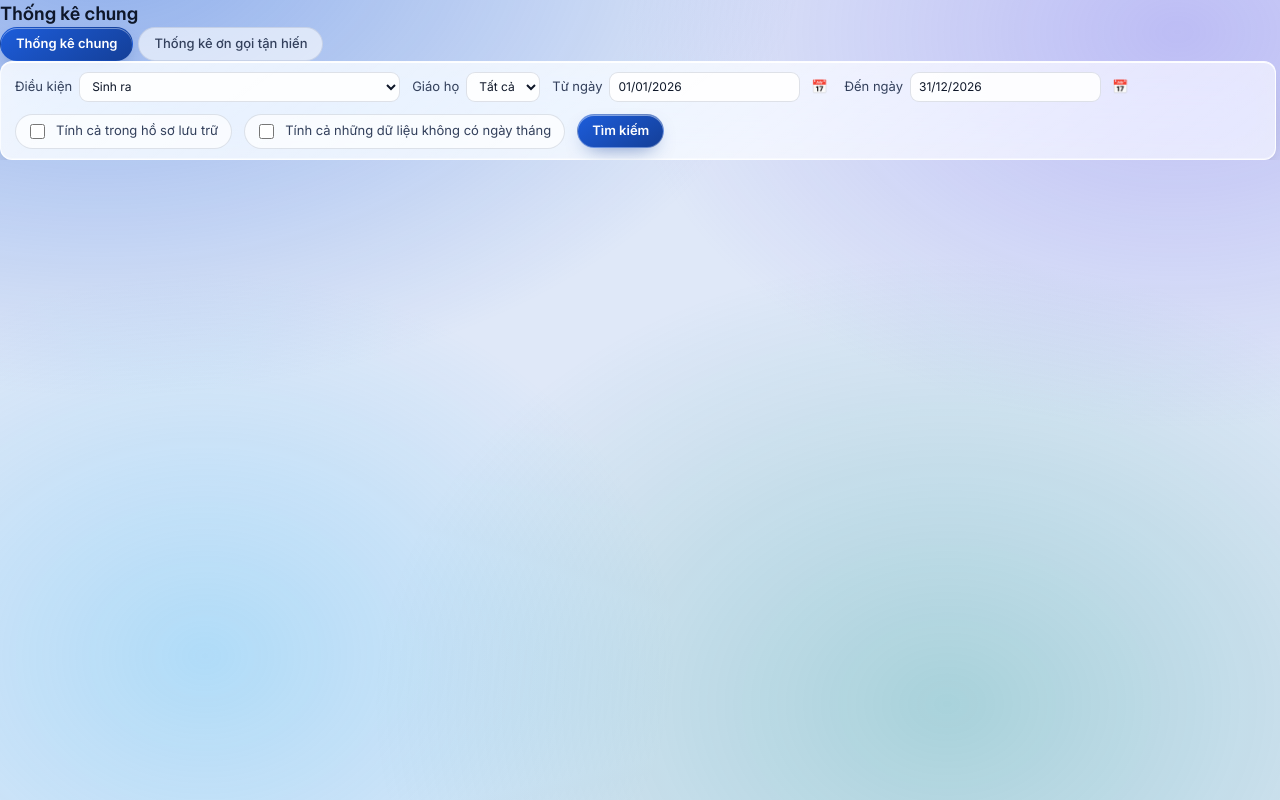
Test: ThongKeChungPage › mac dinh dieu kien Sinh ra, tim kiem tra ve luoi giao dan voi tong cong dung
This screenshot has width=1280, height=800.
Click the button "Tìm kiếm": (621, 131) 577,114 -> 664,148
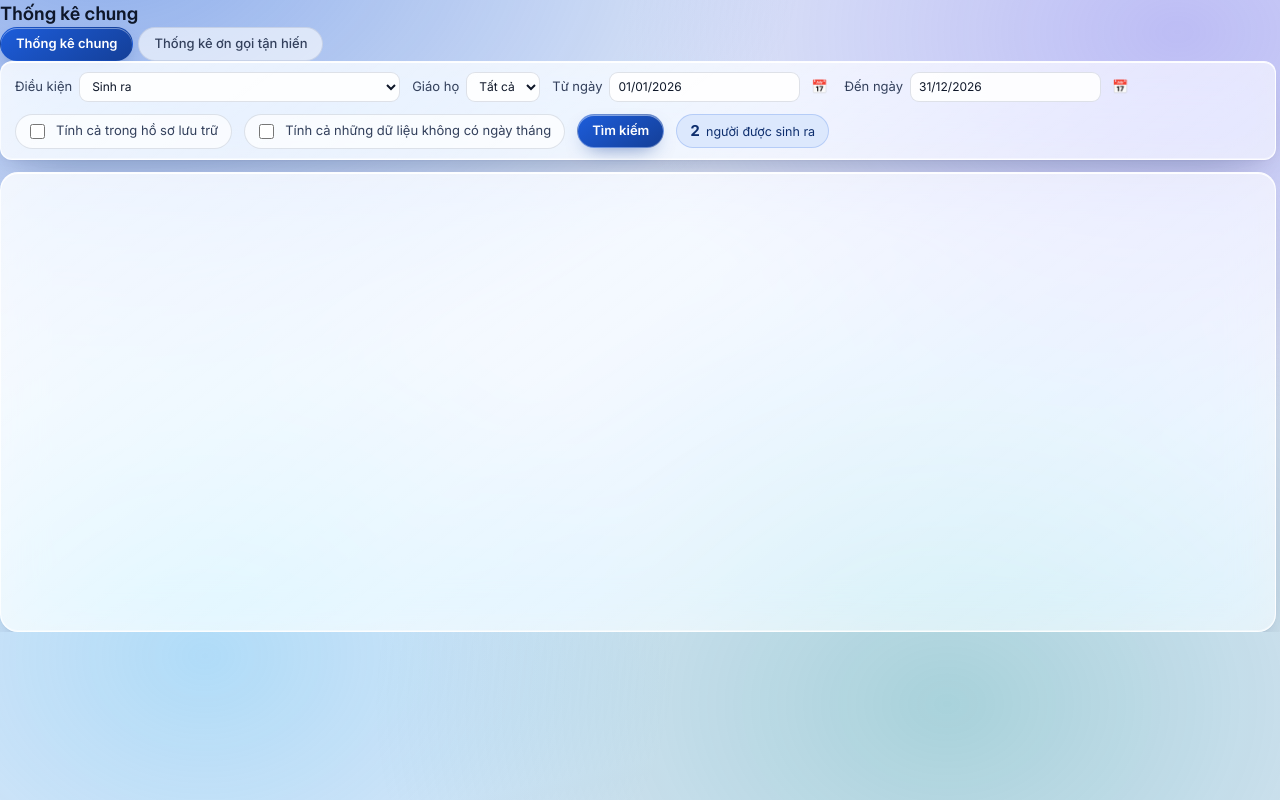
Check: the text "2" is shown, box 690,120 -> 700,142
Check: the text "2 người được sinh ra" is shown, box 676,114 -> 829,148
